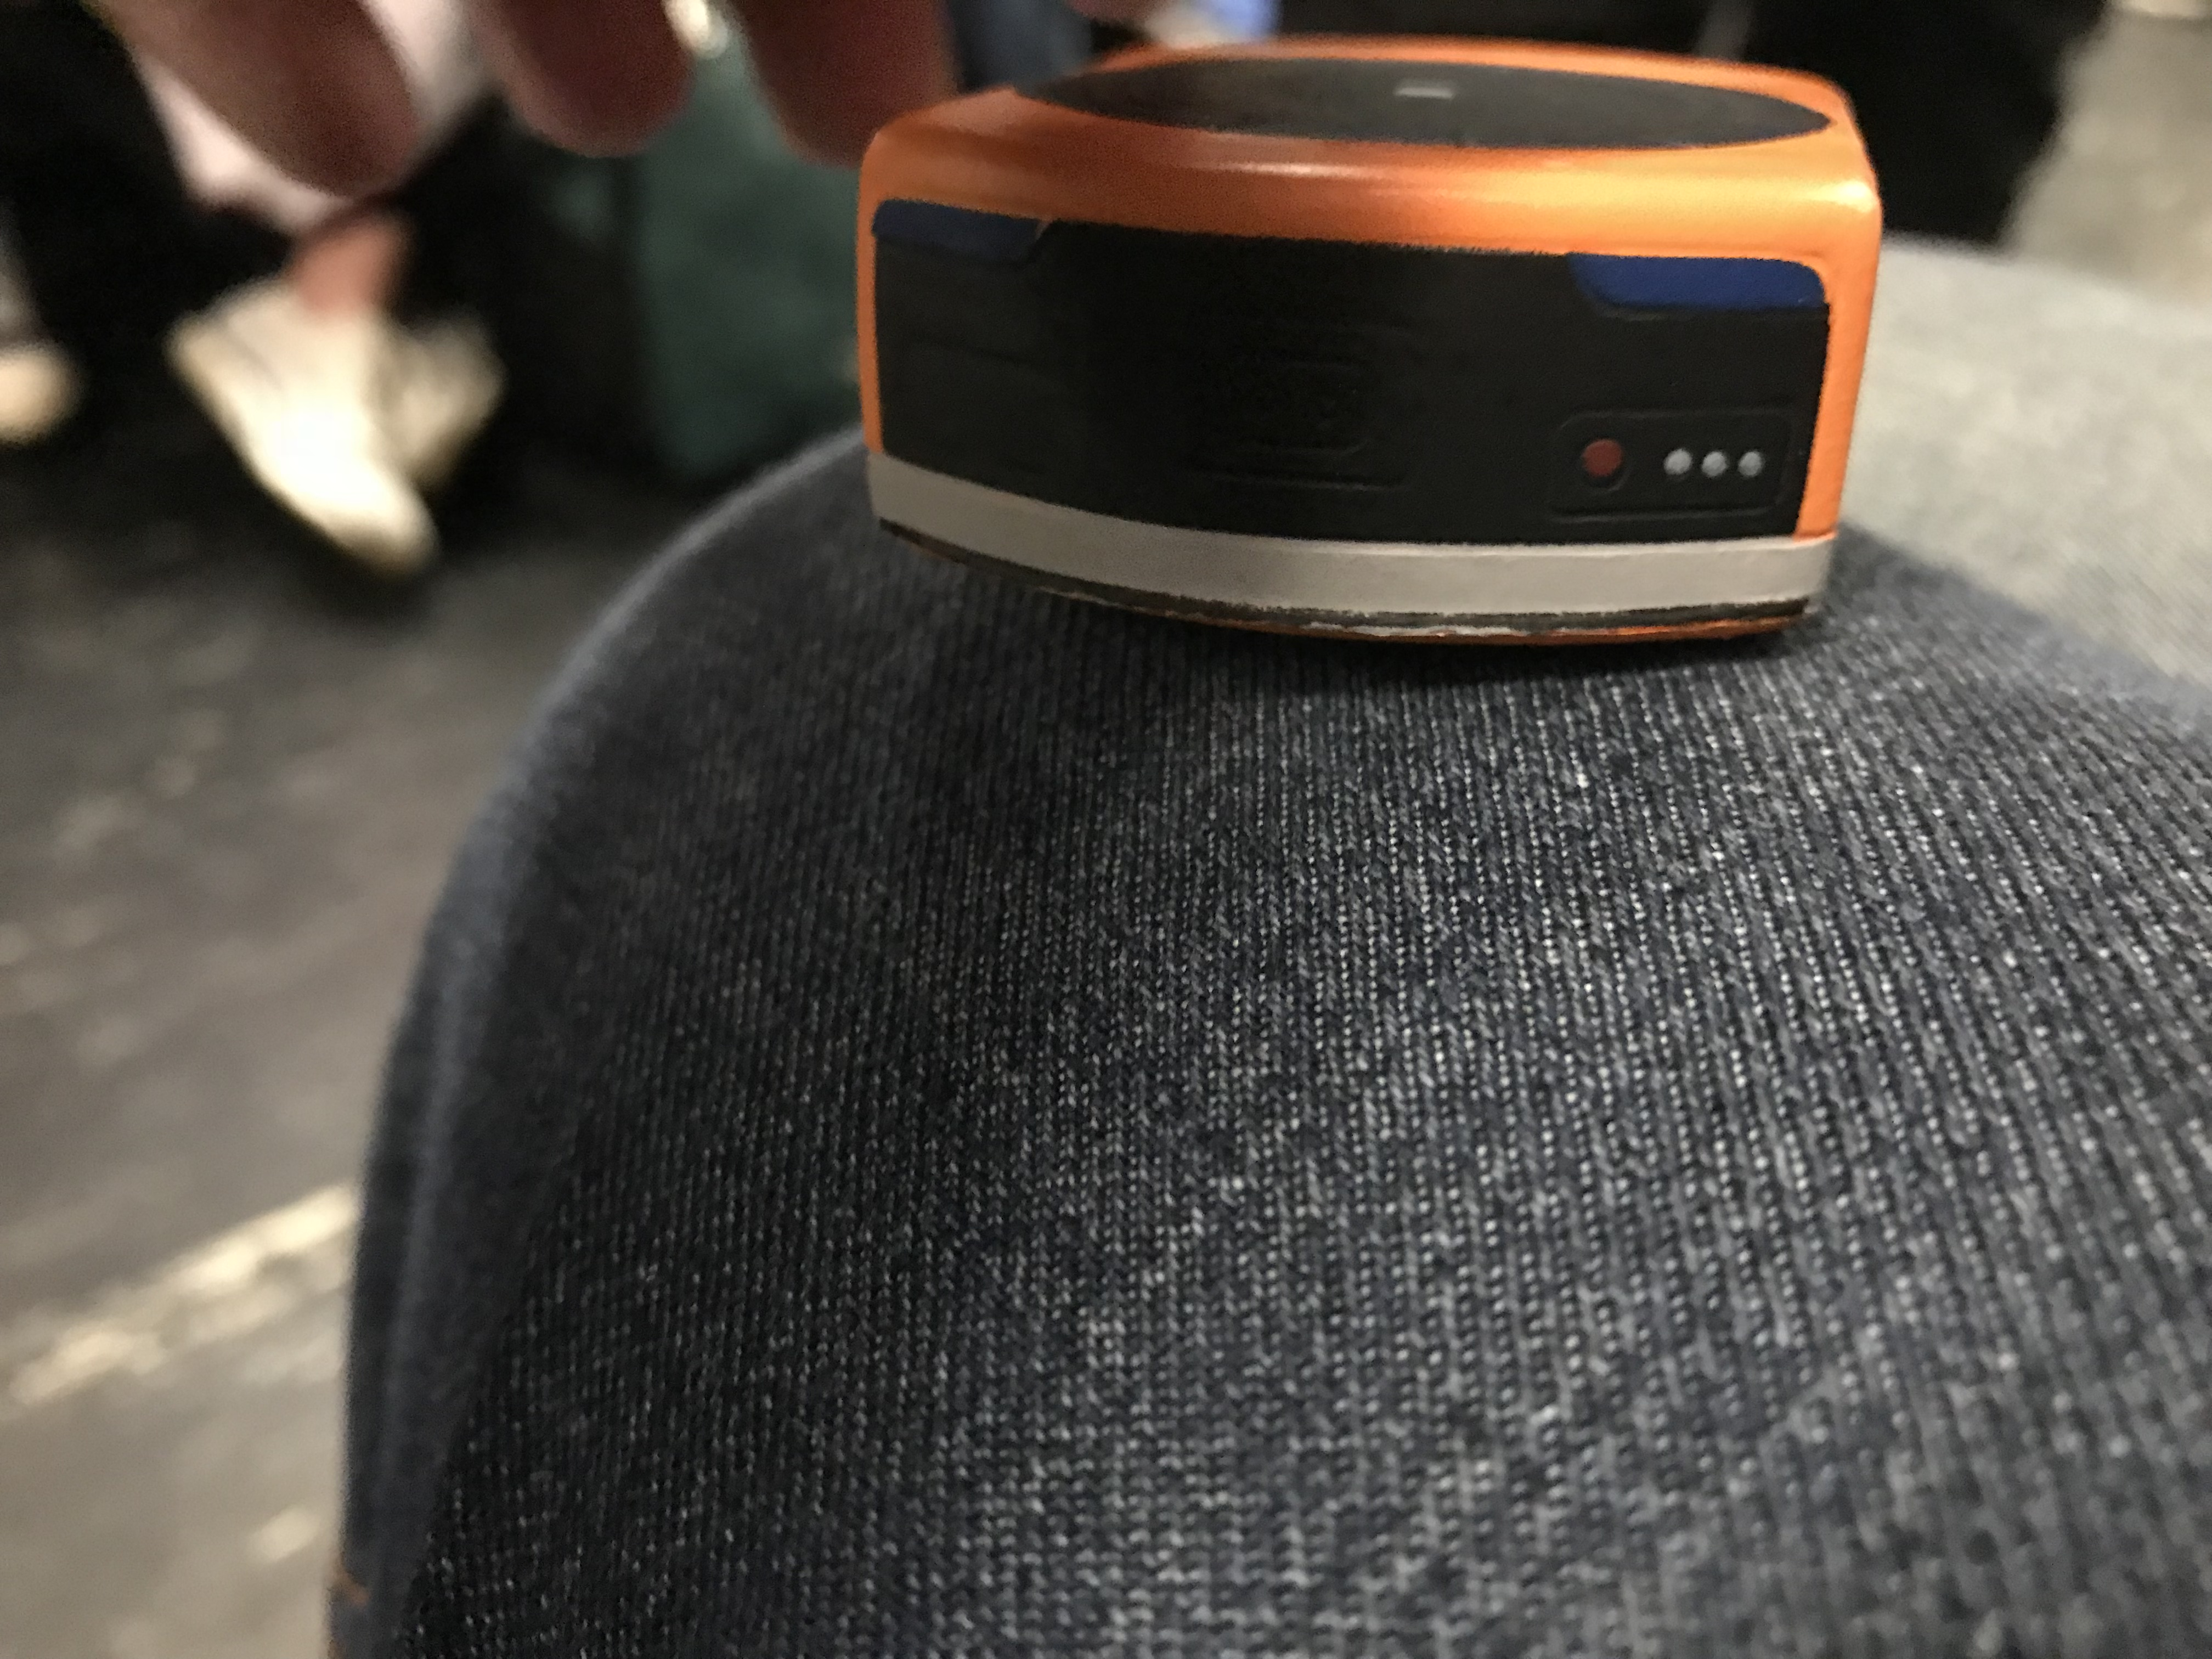amazon_bot: (841, 33, 1890, 681)
